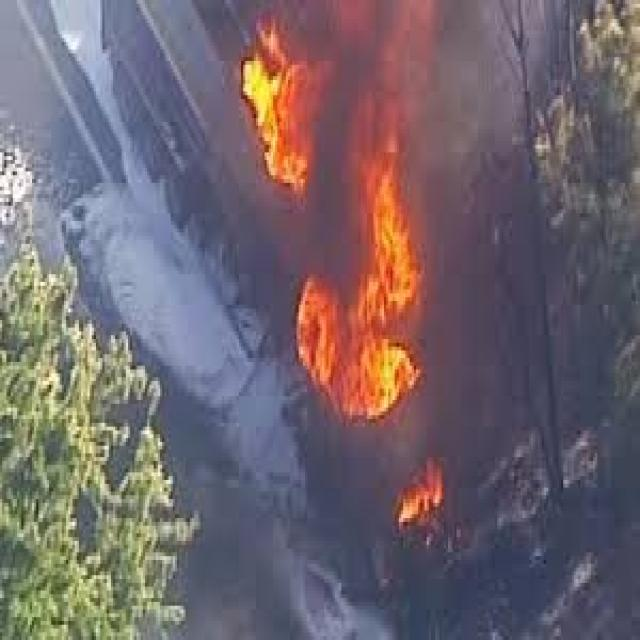Fire: (240, 0, 426, 419), (398, 457, 444, 526)
